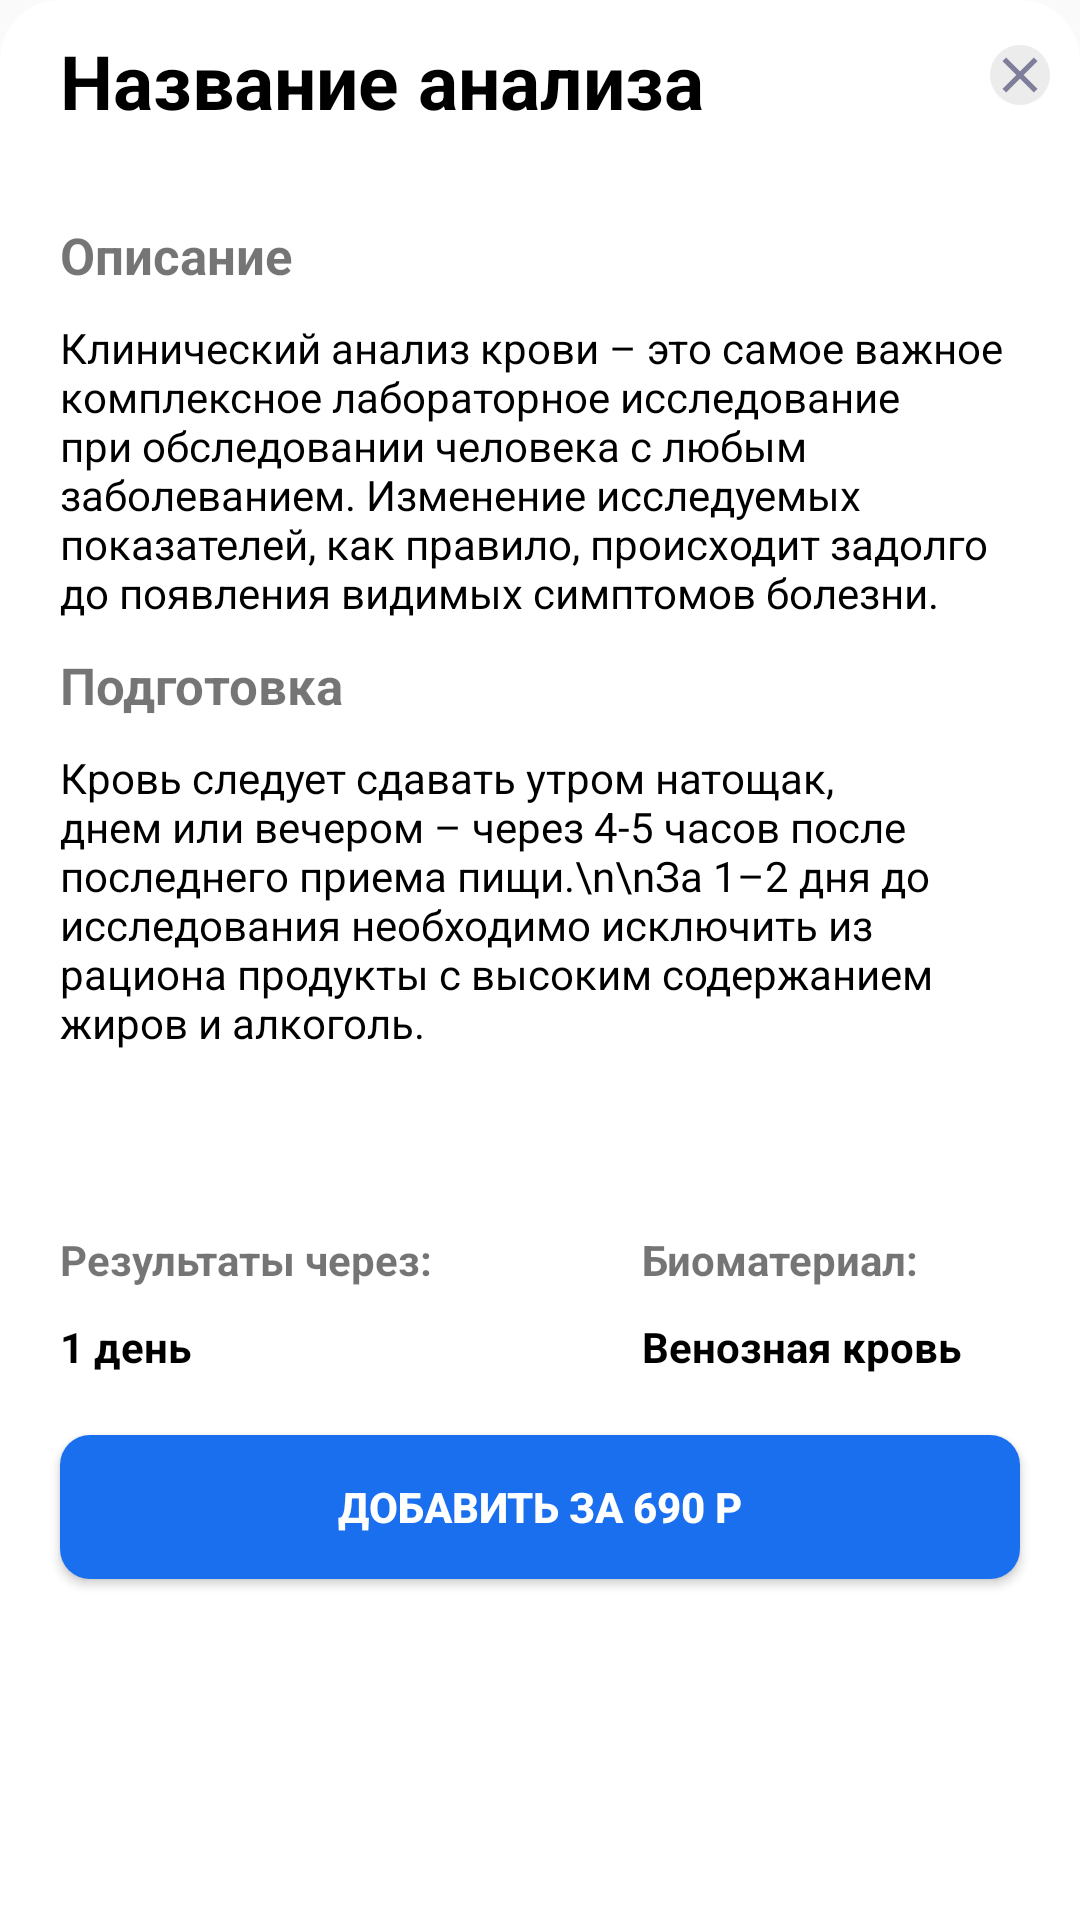

Where icons sit on this 1080×1920 app screen, as (x1, y1, x2, y2):
close: (990, 45, 1050, 105)
